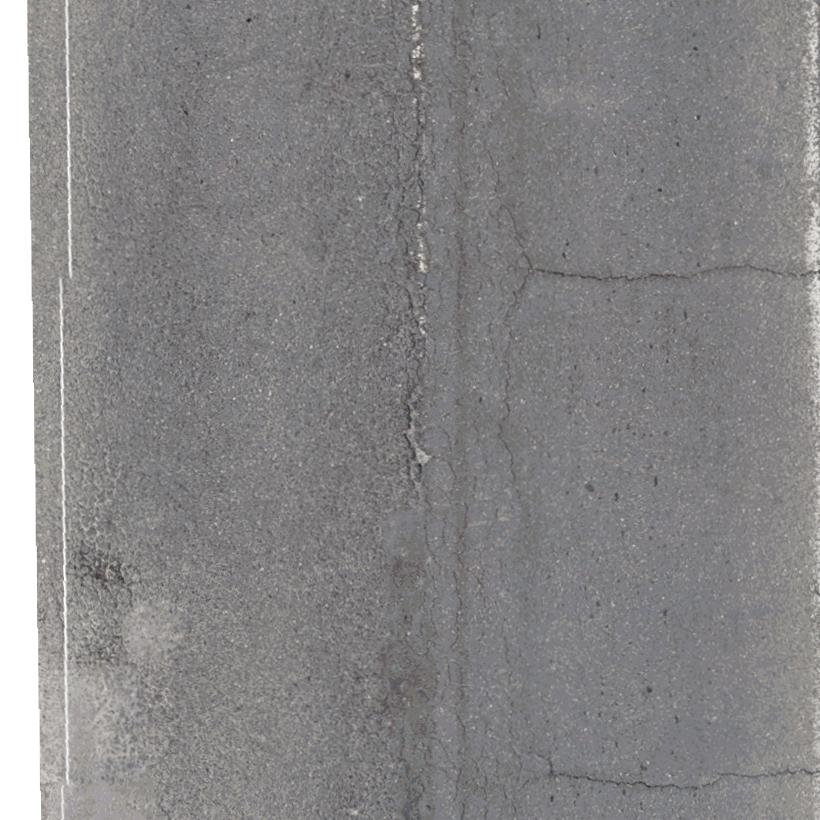GRIETA: (560, 767, 819, 790), (537, 263, 819, 282)
PIEL DE COCODRILO: (332, 0, 558, 819), (38, 425, 183, 788), (146, 279, 261, 428), (50, 44, 121, 234)
